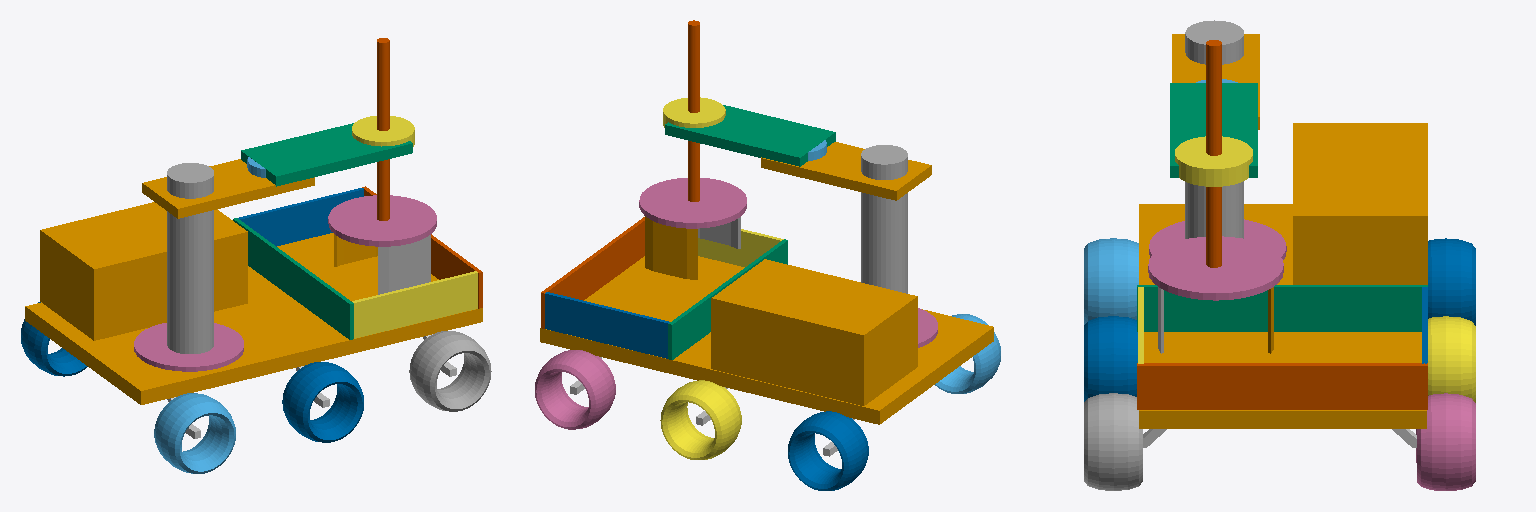
URDF robot description (correctRover):
<?xml version="1.0"?>
<robot name="correctRover" version="1.0">

  <joint name="Axis1_link_joint" type="fixed">
    <origin rpy="0.00000 0.00000 -3.13536" xyz="-0.88055 0.00139 -0.08971"/>
    <parent link="Base_link"/>
    <child link="Axis1_link"/>
  </joint>

  <joint name="Rueda1Drcha_link_joint" type="continuous">
    <limit effort="100.0" velocity="20.0"/>
    <origin rpy="1.57080 -0.00000 0.00000" xyz="-0.22424 -0.82753 -0.20939"/>
    <parent link="Axis1_link"/>
    <child link="Rueda1Drcha_link"/>
    <axis xyz="0.00000 0.00000 1.00000"/>
  </joint>

  <joint name="Cube.002_link_joint" type="fixed">
    <origin rpy="0.00000 0.00000 1.57080" xyz="0.54692 -0.72127 0.15044"/>
    <parent link="Base_link"/>
    <child link="Cube.002_link"/>
  </joint>

  <joint name="Cube.003_link_joint" type="fixed">
    <origin rpy="0.00000 0.00000 -1.57080" xyz="0.54511 0.72236 0.15044"/>
    <parent link="Base_link"/>
    <child link="Cube.003_link"/>
  </joint>

  <joint name="Cube_link_joint" type="fixed">
    <origin rpy="0.00000 0.00000 0.00000" xyz="1.01230 0.00000 0.15044"/>
    <parent link="Base_link"/>
    <child link="Cube_link"/>
  </joint>

  <joint name="PinzaBase_link_joint" type="fixed">
    <origin rpy="0.00000 0.00000 0.00000" xyz="-0.43433 -0.39334 0.03490"/>
    <parent link="Base_link"/>
    <child link="PinzaBase_link"/>
  </joint>

  <joint name="PinzaBarra_link_joint" type="revolute">
    <limit lower="-3.14000" upper="3.14000" effort="100.0" velocity="3.0"/>
    <origin rpy="0.00000 0.00000 0.00000" xyz="0.03724 0.04687 0.61833"/>
    <parent link="PinzaBase_link"/>
    <child link="PinzaBarra_link"/>
    <axis xyz="0.00000 0.00000 1.00000"/>
  </joint>

  <joint name="L1Barra_link_joint" type="fixed">
    <origin rpy="-0.00000 1.57080 0.00000" xyz="0.27880 0.00490 0.45367"/>
    <parent link="PinzaBarra_link"/>
    <child link="L1Barra_link"/>
  </joint>

  <joint name="Cylinder_link_joint" type="revolute">
    <limit lower="-1.57000" upper="1.57000" effort="100.0" velocity="5.0"/>
    <origin rpy="0.00000 -1.57080 0.00000" xyz="-0.02160 0.00515 0.31468"/>
    <parent link="L1Barra_link"/>
    <child link="Cylinder_link"/>
    <axis xyz="0.00000 0.00000 1.00000"/>
  </joint>

  <joint name="L2Barra_link_joint" type="fixed">
    <origin rpy="0.00000 0.00000 0.00000" xyz="0.39973 -0.01444 0.04107"/>
    <parent link="Cylinder_link"/>
    <child link="L2Barra_link"/>
  </joint>

  <joint name="CilindroPinza1_link_joint" type="revolute">
    <limit lower="-3.14000" upper="3.14000" effort="100.0" velocity="3.0"/>
    <origin rpy="0.00000 0.00000 0.00000" xyz="0.41138 0.00017 0.01680"/>
    <parent link="L2Barra_link"/>
    <child link="CilindroPinza1_link"/>
    <axis xyz="0.00000 0.00000 1.00000"/>
  </joint>

  <joint name="AjustaAlturaPinza_link_joint" type="prismatic">
    <limit lower="-1.0" upper="0.5" effort="100.0" velocity="2.0"/>
    <origin rpy="0.00000 0.00000 0.00000" xyz="0.00070 0.00096 -0.06794"/>
    <parent link="CilindroPinza1_link"/>
    <child link="AjustaAlturaPinza_link"/>
    <axis xyz="0.00000 0.00000 1.00000"/>
  </joint>

  <joint name="Rueda1Izq_link_joint" type="continuous">
    <limit effort="100.0" velocity="20.0"/>
    <origin rpy="-1.57080 0.00000 3.13536" xyz="-0.21372 0.86399 -0.20801"/>
    <parent link="Axis1_link"/>
    <child link="Rueda1Izq_link"/>
    <axis xyz="0.00000 0.00000 1.00000"/>
  </joint>

  <joint name="CilindroPinza2_link_joint" type="fixed">
    <origin rpy="0.00000 0.00000 0.00000" xyz="0.00135 0.00931 -0.53102"/>
    <parent link="AjustaAlturaPinza_link"/>
    <child link="CilindroPinza2_link"/>
  </joint>

  <joint name="Pinza1_link_joint" type="prismatic">
    <limit lower="-0.1" upper="0.3" effort="100.0" velocity="3.0"/>
    <origin rpy="-1.57080 0.00000 0.00000" xyz="-0.00065 -0.29 -0.065"/>
    <parent link="CilindroPinza2_link"/>
    <child link="Pinza1_link"/>
    <axis xyz="0.00000 0.00000 1.00000"/>
  </joint>

  <joint name="Pinza2_link_joint" type="prismatic">
    <limit lower="-0.1" upper="0.3" effort="100.0" velocity="3.0"/>
    <origin rpy="1.57080 0.00000 0.00000" xyz="-0.00246 0.29 -0.065"/>
    <parent link="CilindroPinza2_link"/>
    <child link="Pinza2_link"/>
    <axis xyz="0.00000 0.00000 1.00000"/>
  </joint>

  <joint name="Axis2_link_joint" type="fixed">
    <origin rpy="0.00000 0.00000 -3.13536" xyz="0.05611 0.00545 -0.09470"/>
    <parent link="Base_link"/>
    <child link="Axis2_link"/>
  </joint>

  <joint name="Rueda2Drcha_link_joint" type="continuous">
    <limit effort="100.0" velocity="20.0"/>
    <origin rpy="1.57080 -0.00000 0.00000" xyz="-0.22447 -0.82347 -0.20439"/>
    <parent link="Axis2_link"/>
    <child link="Rueda2Drcha_link"/>
    <axis xyz="0.00000 0.00000 1.00000"/>
  </joint>

  <joint name="Rueda2Izq_link_joint" type="continuous">
    <limit effort="100.0" velocity="20.0"/>
    <origin rpy="-1.57080 0.00000 3.13536" xyz="-0.21395 0.86806 -0.20301"/>
    <parent link="Axis2_link"/>
    <child link="Rueda2Izq_link"/>
    <axis xyz="0.00000 0.00000 1.00000"/>
  </joint>

  <joint name="Axis3_link_joint" type="fixed">
    <origin rpy="0.00000 0.00000 -3.13536" xyz="0.98860 -0.00742 -0.08702"/>
    <parent link="Base_link"/>
    <child link="Axis3_link"/>
  </joint>

  <joint name="Rueda3Drcha_link_joint" type="continuous">
    <limit effort="100.0" velocity="20.0"/>
    <origin rpy="1.57080 -0.00000 0.00000" xyz="-0.22028 -0.83636 -0.21208"/>
    <parent link="Axis3_link"/>
    <child link="Rueda3Drcha_link"/>
    <axis xyz="0.00000 0.00000 1.00000"/>
  </joint>

  <joint name="Rueda3Izq_link_joint" type="continuous">
    <limit effort="100.0" velocity="20.0"/>
    <origin rpy="-1.57080 0.00000 3.13536" xyz="-0.20976 0.85516 -0.21070"/>
    <parent link="Axis3_link"/>
    <child link="Rueda3Izq_link"/>
    <axis xyz="0.00000 0.00000 1.00000"/>
  </joint>

  <joint name="Cube.001_link_joint" type="fixed">
    <origin rpy="0.00000 0.00000 -3.14159" xyz="0.07147 0.00000 0.15044"/>
    <parent link="Base_link"/>
    <child link="Cube.001_link"/>
  </joint>

  <link name="Base_link">
    <visual name="Base">
      <material name="None"/>
      <origin rpy="0.00000 0.00000 0.00000" xyz="-0.88269 0.00000 -0.29771"/>
      <geometry>
        <mesh filename="../meshes/dae/Cube.042.dae" scale="1.25000 0.97696 1.00000"/>
      </geometry>
    </visual>
    <collision>
      <origin rpy="0 0 0" xyz="0.05 0 0"/>
      <geometry>
        <box size="1.2 1.2 0.3"/>
      </geometry>
    </collision>
    <inertial>
      <mass value="50.0"/>
      <origin rpy="0 0 0" xyz="0.05 0 0"/>
      <inertia ixx="10.0" ixy="0" ixz="0" iyy="10.0" iyz="0" izz="10.0"/>
    </inertial>
  </link>

  <link name="Axis1_link">
    <visual name="Axis1">
      <material name="Material.006"/>
      <origin rpy="0.00000 0.00000 0.00000" xyz="-0.22252 -0.22955 -0.00816"/>
      <geometry>
        <mesh filename="../meshes/dae/Cube.005.dae" scale="0.02500 0.25000 0.02500"/>
      </geometry>
    </visual>
    <collision>
      <origin rpy="0 0 0" xyz="0 0 0"/>
      <geometry>
        <box size="0.05 1.8 0.05"/>
      </geometry>
    </collision>
    <inertial>
      <mass value="1.0"/>
      <origin rpy="0 0 0" xyz="0 0 0"/>
      <inertia ixx="0.1" ixy="0" ixz="0" iyy="0.1" iyz="0" izz="0.1"/>
    </inertial>
  </link>

  <link name="Cube.001_link">
    <visual name="Cube.001">
      <material name="None"/>
      <origin rpy="0.00000 0.00000 -0.00000" xyz="-0.48273 0.00000 -0.00000"/>
      <geometry>
        <box size="0.03000 1.48000 0.25000"/>
      </geometry>
    </visual>
    <inertial>
      <mass value="0.1"/>
      <origin rpy="0 0 0" xyz="0 0 0"/>
      <inertia ixx="0.01" ixy="0" ixz="0" iyy="0.01" iyz="0" izz="0.01"/>
    </inertial>
  </link>

  <link name="Cube.002_link">
    <visual name="Cube.002">
      <material name="None"/>
      <origin rpy="0.00000 0.00000 0.00000" xyz="0.00000 -0.48273 -0.00000"/>
      <geometry>
        <box size="0.03000 0.92000 0.25000"/>
      </geometry>
    </visual>
    <inertial>
      <mass value="0.1"/>
      <origin rpy="0 0 0" xyz="0 0 0"/>
      <inertia ixx="0.01" ixy="0" ixz="0" iyy="0.01" iyz="0" izz="0.01"/>
    </inertial>
  </link>

  <link name="Cube.003_link">
    <visual name="Cube.003">
      <material name="None"/>
      <origin rpy="0.00000 0.00000 -0.00000" xyz="0.00000 0.48273 -0.00000"/>
      <geometry>
        <box size="0.03000 0.92000 0.25000"/>
      </geometry>
    </visual>
    <inertial>
      <mass value="0.1"/>
      <origin rpy="0 0 0" xyz="0 0 0"/>
      <inertia ixx="0.01" ixy="0" ixz="0" iyy="0.01" iyz="0" izz="0.01"/>
    </inertial>
  </link>

  <link name="Cube_link">
    <visual name="Cube">
      <material name="None"/>
      <origin rpy="0.00000 0.00000 0.00000" xyz="0.48273 0.00000 -0.00000"/>
      <geometry>
        <box size="0.03000 1.48000 0.25000"/>
      </geometry>
    </visual>
    <inertial>
      <mass value="0.1"/>
      <origin rpy="0 0 0" xyz="0 0 0"/>
      <inertia ixx="0.01" ixy="0" ixz="0" iyy="0.01" iyz="0" izz="0.01"/>
    </inertial>
  </link>

  <link name="PinzaBase_link">
    <visual name="PinzaBase">
      <material name="None"/>
      <origin rpy="0.00000 0.00000 0.00000" xyz="0.03531 0.06165 -0.00000"/>
      <geometry>
        <cylinder radius="0.35000" length="0.04000"/>
      </geometry>
    </visual>
    <collision>
      <origin rpy="0 0 0" xyz="0 0 0"/>
      <geometry>
        <cylinder radius="0.35" length="0.04"/>
      </geometry>
    </collision>
    <inertial>
      <mass value="1.0"/>
      <origin rpy="0 0 0" xyz="0 0 0"/>
      <inertia ixx="0.1" ixy="0" ixz="0" iyy="0.1" iyz="0" izz="0.1"/>
    </inertial>
  </link>

  <link name="PinzaBarra_link">
    <visual name="PinzaBarra">
      <material name="None"/>
      <origin rpy="0.00000 0.00000 0.00000" xyz="0.0000 -0.00000 -0.00000"/>
      <geometry>
        <cylinder radius="0.15000" length="1.20000"/>
      </geometry>
    </visual>
    <collision>
      <origin rpy="0 0 0" xyz="0 0 0"/>
      <geometry>
        <cylinder radius="0.15" length="1.20"/>
      </geometry>
    </collision>
    <inertial>
      <mass value="1.5"/>
      <origin rpy="0 0 0" xyz="0 0 0"/>
      <inertia ixx="0.2" ixy="0" ixz="0" iyy="0.2" iyz="0" izz="0.05"/>
    </inertial>
  </link>

  <link name="L1Barra_link">
    <visual name="L1Barra">
      <material name="None"/>
      <origin rpy="0.00000 -1.57080 0.00000" xyz="0.00000 0.00000 0.00000"/>
      <geometry>
        <box size="1.00000 0.45000 0.07000"/>
      </geometry>
    </visual>
    <collision>
      <origin rpy="0 0 0" xyz="0 0 0"/>
      <geometry>
        <box size="1.0 0.45 0.07"/>
      </geometry>
    </collision>
    <inertial>
      <mass value="1.0"/>
      <origin rpy="0 0 0" xyz="0 0 0"/>
      <inertia ixx="0.1" ixy="0" ixz="0" iyy="0.1" iyz="0" izz="0.1"/>
    </inertial>
  </link>

  <link name="Cylinder_link">
    <visual name="Cylinder">
      <material name="None"/>
      <origin rpy="0.00000 0.00000 0.00000" xyz="0.00000 0.00000 -0.00000"/>
      <geometry>
        <cylinder radius="0.15000" length="0.15000"/>
      </geometry>
    </visual>
    <collision>
      <origin rpy="0 0 0" xyz="0 0 0"/>
      <geometry>
        <cylinder radius="0.15" length="0.15"/>
      </geometry>
    </collision>
    <inertial>
      <mass value="0.5"/>
      <origin rpy="0 0 0" xyz="0 0 0"/>
      <inertia ixx="0.05" ixy="0" ixz="0" iyy="0.05" iyz="0" izz="0.05"/>
    </inertial>
  </link>

  <link name="L2Barra_link">
    <visual name="L2Barra">
      <material name="None"/>
      <origin rpy="0.00000 0.00000 0.00000" xyz="0.00000 -0.00000 -0.00000"/>
      <geometry>
        <box size="1.00000 0.45000 0.07000"/>
      </geometry>
    </visual>
    <collision>
      <origin rpy="0 0 0" xyz="0 0 0"/>
      <geometry>
        <box size="1.0 0.45 0.07"/>
      </geometry>
    </collision>
    <inertial>
      <mass value="1.0"/>
      <origin rpy="0 0 0" xyz="0 0 0"/>
      <inertia ixx="0.1" ixy="0" ixz="0" iyy="0.1" iyz="0" izz="0.1"/>
    </inertial>
  </link>

  <link name="CilindroPinza1_link">
    <visual name="CilindroPinza1">
      <material name="None"/>
      <origin rpy="0.00000 0.00000 0.00000" xyz="0.00000 0.00000 0.00000"/>
      <geometry>
        <cylinder radius="0.20000" length="0.10000"/>
      </geometry>
    </visual>
    <collision>
      <origin rpy="0 0 0" xyz="0 0 0"/>
      <geometry>
        <cylinder radius="0.20" length="0.10"/>
      </geometry>
    </collision>
    <inertial>
      <mass value="0.5"/>
      <origin rpy="0 0 0" xyz="0 0 0"/>
      <inertia ixx="0.05" ixy="0" ixz="0" iyy="0.05" iyz="0" izz="0.05"/>
    </inertial>
  </link>

  <link name="Rueda1Drcha_link">
    <visual name="Rueda1Drcha">
      <material name="None"/>
      <origin rpy="-0.00000 0.00000 0.00000" xyz="-0.00000  -0.00000 -0.00000 "/>
      <geometry>
        <mesh filename="../meshes/dae/Torus.003.dae" scale="0.20000 0.20000 0.60000"/>
      </geometry>
    </visual>
    <collision>
      <origin rpy="0 0 0" xyz="0 0 0"/>
      <geometry>
        <cylinder radius="0.18" length="0.15"/>
      </geometry>
    </collision>
    <inertial>
      <mass value="2.0"/>
      <origin rpy="0 0 0" xyz="0 0 0"/>
      <inertia ixx="0.05" ixy="0" ixz="0" iyy="0.05" iyz="0" izz="0.05"/>
    </inertial>
  </link>

  <link name="AjustaAlturaPinza_link">
    <visual name="AjustaAlturaPinza">
      <material name="None"/>
      <origin rpy="0.00000 0.00000 0.00000" xyz="0.00000 0.00000 0.10784"/>
      <geometry>
        <cylinder radius="0.04000" length="1.25000"/>
      </geometry>
    </visual>
    <collision>
      <origin rpy="0 0 0" xyz="0 0 0.10784"/>
      <geometry>
        <cylinder radius="0.04" length="1.25"/>
      </geometry>
    </collision>
    <inertial>
      <mass value="0.5"/>
      <origin rpy="0 0 0" xyz="0 0 0"/>
      <inertia ixx="0.05" ixy="0" ixz="0" iyy="0.05" iyz="0" izz="0.05"/>
    </inertial>
  </link>

  <link name="CilindroPinza2_link">
    <visual name="CilindroPinza2">
      <material name="None"/>
      <origin rpy="0.00000 0.00000 0.00000" xyz="0.00000 0.00000 -0.00000"/>
      <geometry>
        <cylinder radius="0.34500" length="0.04000"/>
      </geometry>
    </visual>
    <collision>
      <origin rpy="0 0 0" xyz="0 0 0.02"/>
      <geometry>
        <cylinder radius="0.345" length="0.04"/>
      </geometry>
    </collision>
    <inertial>
      <mass value="0.5"/>
      <origin rpy="0 0 0" xyz="0 0 0"/>
      <inertia ixx="0.05" ixy="0" ixz="0" iyy="0.05" iyz="0" izz="0.05"/>
    </inertial>
  </link>

  <link name="Pinza1_link">
    <visual name="Pinza1">
      <material name="None"/>
      <origin rpy="1.57080 0.00000 0.00000" xyz="0.00000 0.12500 0.00000"/>
      <geometry>
        <mesh filename="../meshes/dae/Cube.011.dae" scale="0.12500 0.00681 0.20000"/>
      </geometry>
    </visual>
    <collision>
      <origin rpy="0 0 0" xyz="0 0 0"/>
      <geometry>
        <box size="1.2 0.05 0.1"/>
      </geometry>
    </collision>
    <inertial>
      <mass value="0.3"/>
      <origin rpy="0 0 0" xyz="0 0 0"/>
      <inertia ixx="0.01" ixy="0" ixz="0" iyy="0.01" iyz="0" izz="0.01"/>
    </inertial>
  </link>

  <link name="Pinza2_link">
    <visual name="Pinza2">
      <material name="None"/>
      <origin rpy="1.57080 0.00000 0.00000" xyz="0.00000 -0.12500 -0.00000"/>
      <geometry>
        <mesh filename="../meshes/dae/Cube.014.dae" scale="0.12500 0.00681 0.20000"/>
      </geometry>
    </visual>
    <collision>
      <origin rpy="0 0 0" xyz="0 0 0"/>
      <geometry>
        <box size="1.2 0.05 0.1"/>
      </geometry>
    </collision>
    <inertial>
      <mass value="0.3"/>
      <origin rpy="0 0 0" xyz="0 0 0"/>
      <inertia ixx="0.01" ixy="0" ixz="0" iyy="0.01" iyz="0" izz="0.01"/>
    </inertial>
  </link>

  <link name="Rueda1Izq_link">
    <visual name="Rueda1Izq">
      <material name="None"/>
      <origin rpy="3.14159 0.00000 0.00000" xyz="0.00000 0.00000 -0.00000"/>
      <geometry>
        <mesh filename="../meshes/dae/Torus.dae" scale="0.20000 0.20000 0.60000"/>
      </geometry>
    </visual>
    <collision>
      <origin rpy="0 0 0" xyz="0 0 0"/>
      <geometry>
        <cylinder radius="0.18" length="0.15"/>
      </geometry>
    </collision>
    <inertial>
      <mass value="2.0"/>
      <origin rpy="0 0 0" xyz="0 0 0"/>
      <inertia ixx="0.05" ixy="0" ixz="0" iyy="0.05" iyz="0" izz="0.05"/>
    </inertial>
  </link>

  <link name="Axis2_link">
    <visual name="Axis2">
      <material name="Material.008"/>
      <origin rpy="0.00000 0.00000 0.00000" xyz="-0.22275 -0.22549 -0.00317"/>
      <geometry>
        <mesh filename="../meshes/dae/Cube.006.dae" scale="0.02500 0.25000 0.02500"/>
      </geometry>
    </visual>
    <collision>
      <origin rpy="0 0 0" xyz="0 0 0"/>
      <geometry>
        <box size="0.05 1.8 0.05"/>
      </geometry>
    </collision>
    <inertial>
      <mass value="1.0"/>
      <origin rpy="0 0 0" xyz="0 0 0"/>
      <inertia ixx="0.1" ixy="0" ixz="0" iyy="0.1" iyz="0" izz="0.1"/>
    </inertial>
  </link>

  <link name="Rueda2Drcha_link">
    <visual name="Rueda2Drcha">
      <material name="None"/>
      <origin rpy="-0.00000 0.00000 0.00000" xyz="-0.00000 -0.00000 -0.00000"/>
      <geometry>
        <mesh filename="../meshes/dae/Torus.005.dae" scale="0.20000 0.20000 0.60000"/>
      </geometry>
    </visual>
    <collision>
      <origin rpy="0 0 0" xyz="0 0 0"/>
      <geometry>
        <cylinder radius="0.18" length="0.15"/>
      </geometry>
    </collision>
    <inertial>
      <mass value="2.0"/>
      <origin rpy="0 0 0" xyz="0 0 0"/>
      <inertia ixx="0.05" ixy="0" ixz="0" iyy="0.05" iyz="0" izz="0.05"/>
    </inertial>
  </link>

  <link name="Rueda2Izq_link">
    <visual name="Rueda2Izq">
      <material name="None"/>
      <origin rpy="3.14159 0.00000 0.00000" xyz="0.00000 0.00000 -0.00000"/>
      <geometry>
        <mesh filename="../meshes/dae/Torus.004.dae" scale="0.20000 0.20000 0.60000"/>
      </geometry>
    </visual>
    <collision>
      <origin rpy="0 0 0" xyz="0 0 0"/>
      <geometry>
        <cylinder radius="0.18" length="0.15"/>
      </geometry>
    </collision>
    <inertial>
      <mass value="2.0"/>
      <origin rpy="0 0 0" xyz="0 0 0"/>
      <inertia ixx="0.05" ixy="0" ixz="0" iyy="0.05" iyz="0" izz="0.05"/>
    </inertial>
  </link>

  <link name="Axis3_link">
    <visual name="Axis3">
      <material name="Material.016"/>
      <origin rpy="0.00000 0.00000 0.00000" xyz="-0.21856 -0.23838 -0.01085"/>
      <geometry>
        <mesh filename="../meshes/dae/Cube.008.dae" scale="0.02500 0.25000 0.02500"/>
      </geometry>
    </visual>
    <collision>
      <origin rpy="0 0 0" xyz="0 0 0"/>
      <geometry>
        <box size="0.05 1.8 0.05"/>
      </geometry>
    </collision>
    <inertial>
      <mass value="1.0"/>
      <origin rpy="0 0 0" xyz="0 0 0"/>
      <inertia ixx="0.1" ixy="0" ixz="0" iyy="0.1" iyz="0" izz="0.1"/>
    </inertial>
  </link>

  <link name="Rueda3Drcha_link">
    <visual name="Rueda3Drcha">
      <material name="None"/>
      <origin rpy="-0.00000 0.00000 0.00000" xyz="-0.00000 -0.00000 -0.00000"/>
      <geometry>
        <mesh filename="../meshes/dae/Torus.009.dae" scale="0.20000 0.20000 0.60000"/>
      </geometry>
    </visual>
    <collision>
      <origin rpy="0 0 0" xyz="0 0 0"/>
      <geometry>
        <cylinder radius="0.18" length="0.15"/>
      </geometry>
    </collision>
    <inertial>
      <mass value="2.0"/>
      <origin rpy="0 0 0" xyz="0 0 0"/>
      <inertia ixx="0.05" ixy="0" ixz="0" iyy="0.05" iyz="0" izz="0.05"/>
    </inertial>
  </link>

  <link name="Rueda3Izq_link">
    <visual name="Rueda3Izq">
      <material name="None"/>
      <origin rpy="3.14159 0.00000 0.00000" xyz="0.00000 0.00000 -0.00000"/>
      <geometry>
        <mesh filename="../meshes/dae/Torus.008.dae" scale="0.20000 0.20000 0.60000"/>
      </geometry>
    </visual>
    <collision>
      <origin rpy="0 0 0" xyz="0 0 0"/>
      <geometry>
        <cylinder radius="0.18" length="0.15"/>
      </geometry>
    </collision>
    <inertial>
      <mass value="2.0"/>
      <origin rpy="0 0 0" xyz="0 0 0"/>
      <inertia ixx="0.05" ixy="0" ixz="0" iyy="0.05" iyz="0" izz="0.05"/>
    </inertial>
  </link>

  <material name="Material.006">
    <color rgba="0.80000 0.80000 0.80000 1.00000"/>
  </material>
  <material name="Material.008">
    <color rgba="0.80000 0.80000 0.80000 1.00000"/>
  </material>
  <material name="Material.016">
    <color rgba="0.80000 0.80000 0.80000 1.00000"/>
  </material>

</robot>

--- What the picture shows (computed from the rendered views, not written in the file) ---
Views: 3 orthographic renders of the robot side by side, from view 1: azimuth 30°, elevation 25°; view 2: azimuth 150°, elevation 25°; view 3: azimuth 270°, elevation 25°.
Model correctRover with 24 links and 23 joints (3 revolute, 6 continuous, 3 prismatic, 11 fixed), rooted at Base_link, posed all joints at 0.
Visible links, largest first — view 1: Base_link, PinzaBarra_link, L2Barra_link, Cube.002_link, Rueda1Izq_link, Rueda3Izq_link, Rueda2Izq_link, Cube.001_link, CilindroPinza2_link, L1Barra_link, Cube.003_link, PinzaBase_link (+6 smaller); view 2: Base_link, PinzaBarra_link, L2Barra_link, Cube.003_link, Rueda3Drcha_link, Rueda2Drcha_link, Rueda1Drcha_link, CilindroPinza2_link, L1Barra_link, Cube_link, Pinza2_link, Cube.001_link (+6 smaller); view 3: Base_link, Cube_link, Cube.001_link, CilindroPinza2_link, Rueda3Izq_link, Rueda3Drcha_link, L2Barra_link, Rueda1Izq_link, PinzaBarra_link, Rueda2Izq_link, Rueda1Drcha_link, Rueda2Drcha_link (+4 smaller).
Boxes of the visible links, x1,y1,x2,y2 form: Base_link: (25,202,482,404); PinzaBarra_link: (167,163,213,353); L2Barra_link: (241,123,412,186); Cube.002_link: (351,271,477,338); Rueda1Izq_link: (154,393,235,473); Rueda3Izq_link: (409,331,491,411); Rueda2Izq_link: (282,362,363,442); Cube.001_link: (233,218,353,339); CilindroPinza2_link: (328,195,436,246); L1Barra_link: (142,159,314,218); Cube.003_link: (238,188,363,246); PinzaBase_link: (134,323,243,371); Base_link: (540,256,993,424); PinzaBarra_link: (861,145,907,293); L2Barra_link: (665,105,835,166); Cube.003_link: (545,292,669,358); Rueda3Drcha_link: (535,350,615,429); Rueda2Drcha_link: (660,380,741,459); Rueda1Drcha_link: (788,411,868,490); CilindroPinza2_link: (639,178,746,228); L1Barra_link: (761,142,931,200); Cube_link: (541,217,644,328); Pinza2_link: (645,216,697,279); Cube.001_link: (668,239,787,359); Base_link: (1139,123,1427,428); Cube_link: (1137,363,1427,409); Cube.001_link: (1137,285,1427,331); CilindroPinza2_link: (1148,236,1283,300); Rueda3Izq_link: (1084,393,1142,490); Rueda3Drcha_link: (1416,393,1475,490); L2Barra_link: (1170,83,1257,177); Rueda1Izq_link: (1084,238,1138,324); PinzaBarra_link: (1185,20,1243,238); Rueda2Izq_link: (1084,316,1137,401); Rueda1Drcha_link: (1428,238,1475,325); Rueda2Drcha_link: (1428,316,1475,402).
Size in the robot's own frame: 2.5 by 1.99 by 2.4 metres.
12 mesh visuals loaded from 12 distinct referenced files (12 Collada DAE).
